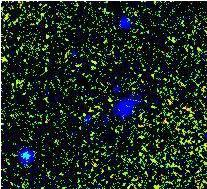star: (94, 85, 124, 115)
